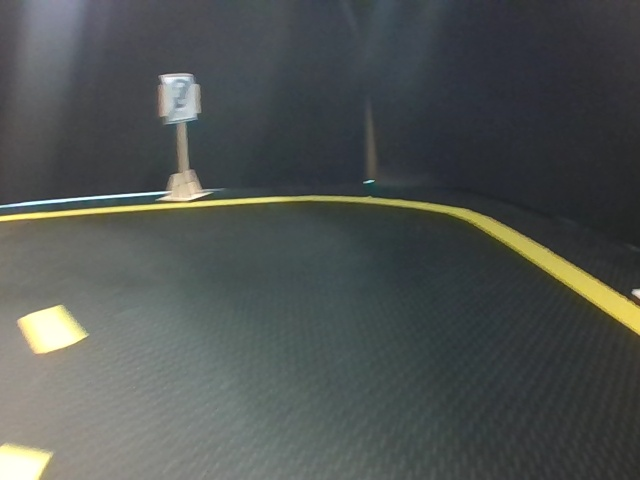no30: (162, 75, 194, 120)
